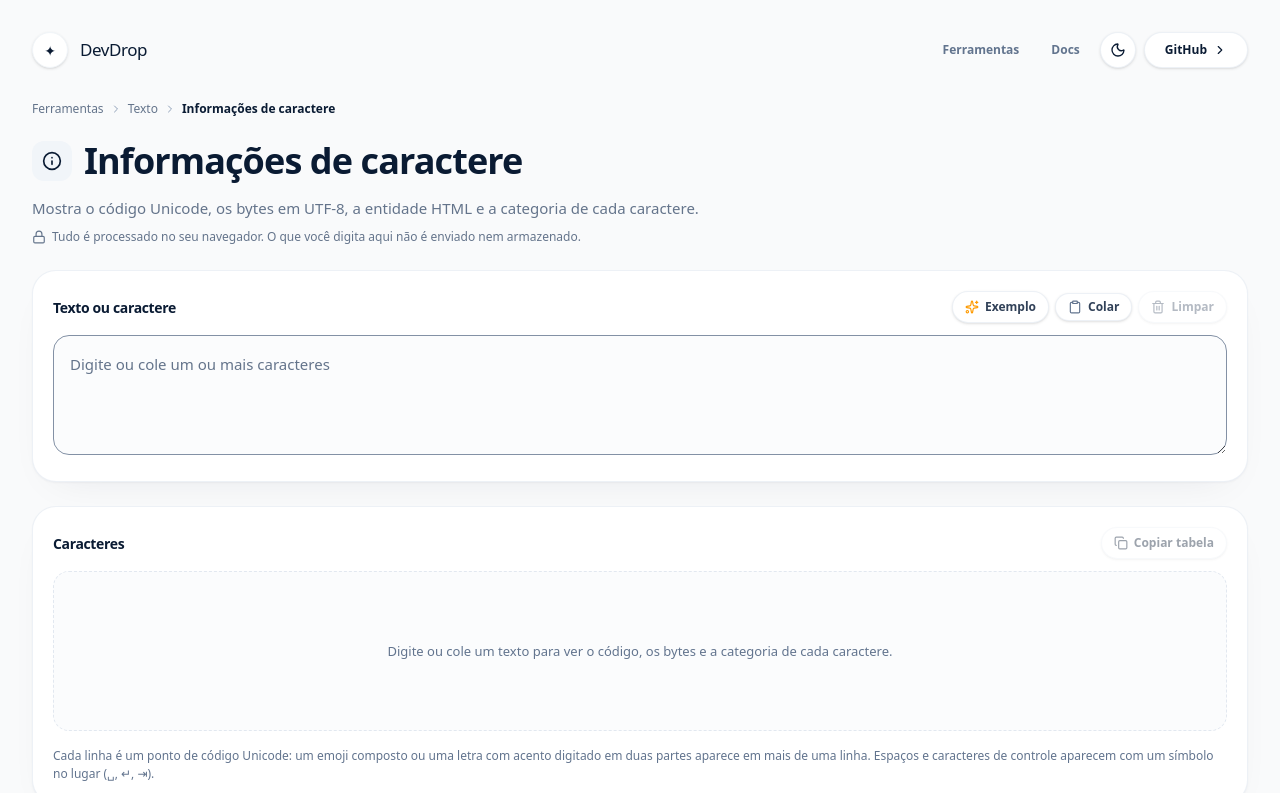
it: character info › describes each code point, stands in for invisible ones and caps the list
Click the text box with id "char-info-input" at [640, 395], box [53,335,1227,455]
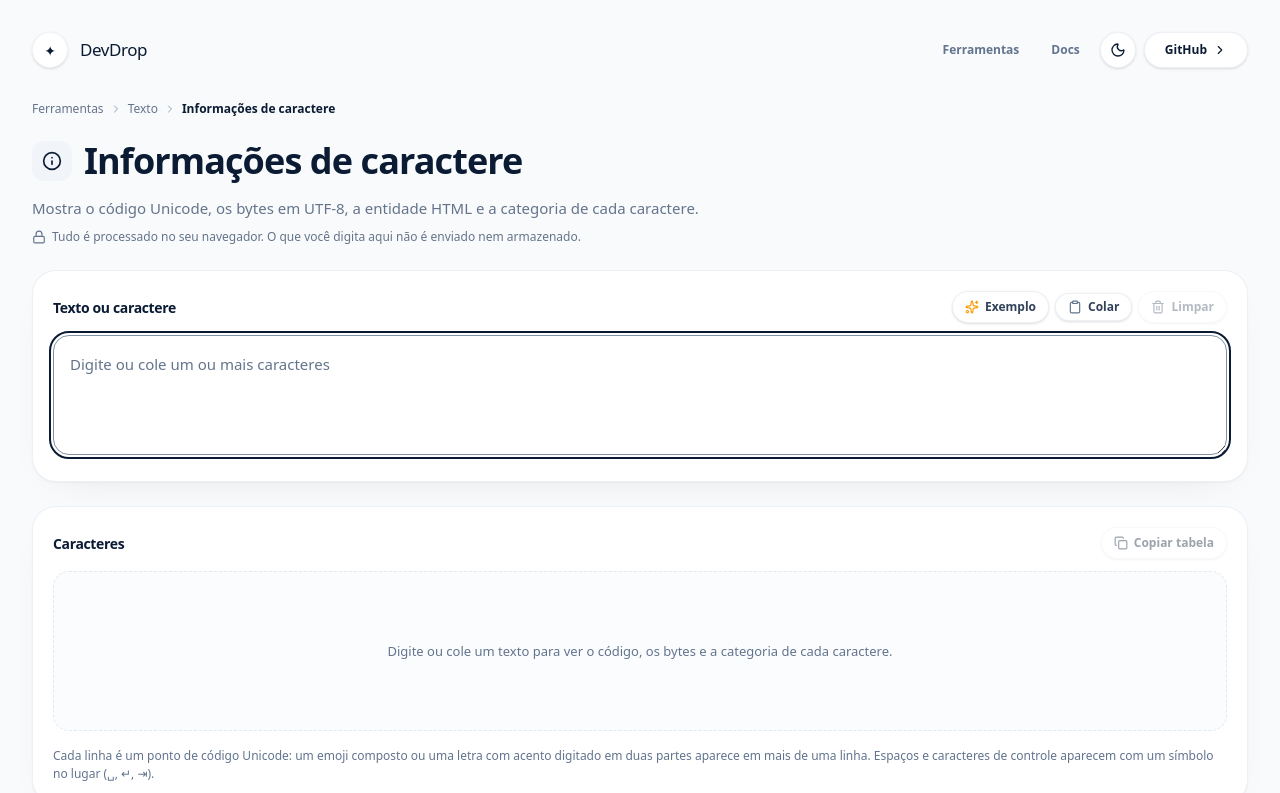
Type keys "ç🚀 "
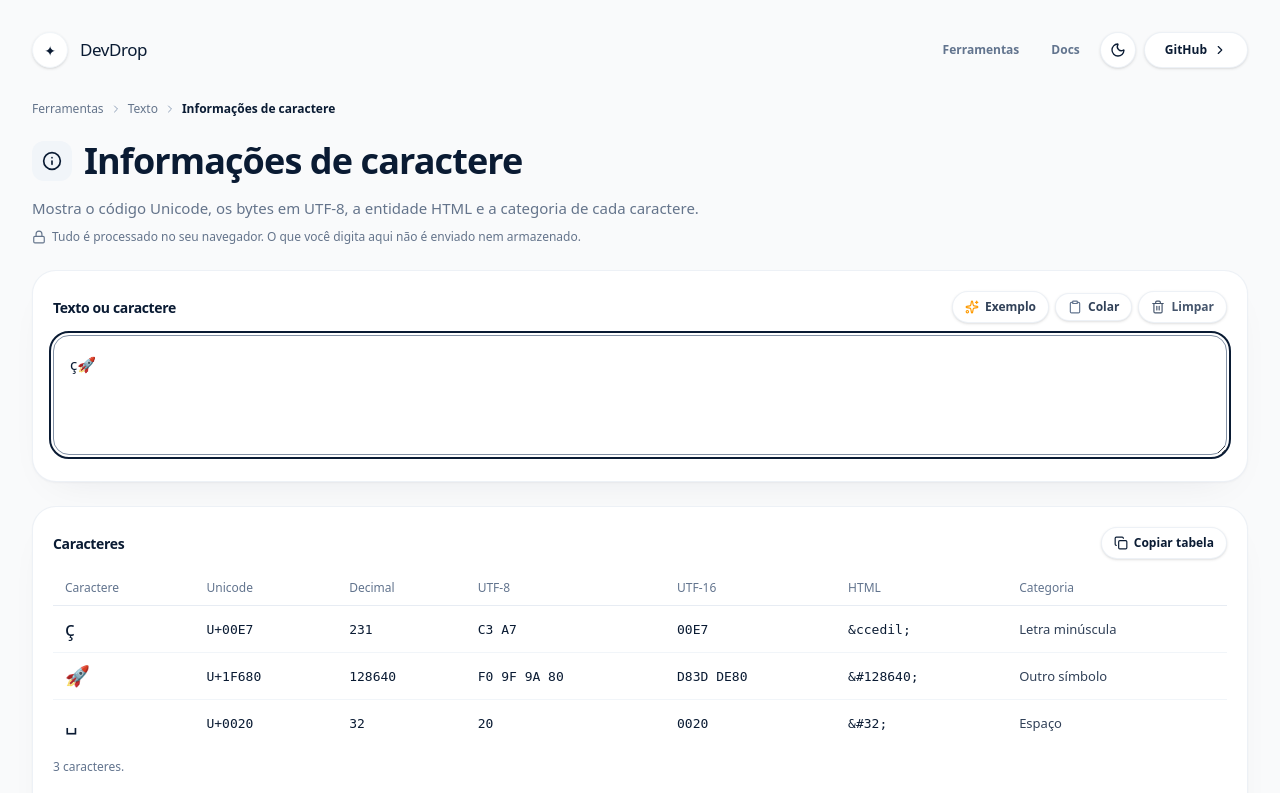
Check: the number of rows is 4, box [53,571,1227,606]; [53,606,1227,653]; [53,653,1227,700]; [53,700,1227,746]
Check: the cell "U+00E7" is shown, box [194,606,337,653]
Check: the cell "F0 9F 9A 80" is shown, box [466,653,665,700]
Click the button "Limpar" at [1183, 307], box [1138,291,1227,323]
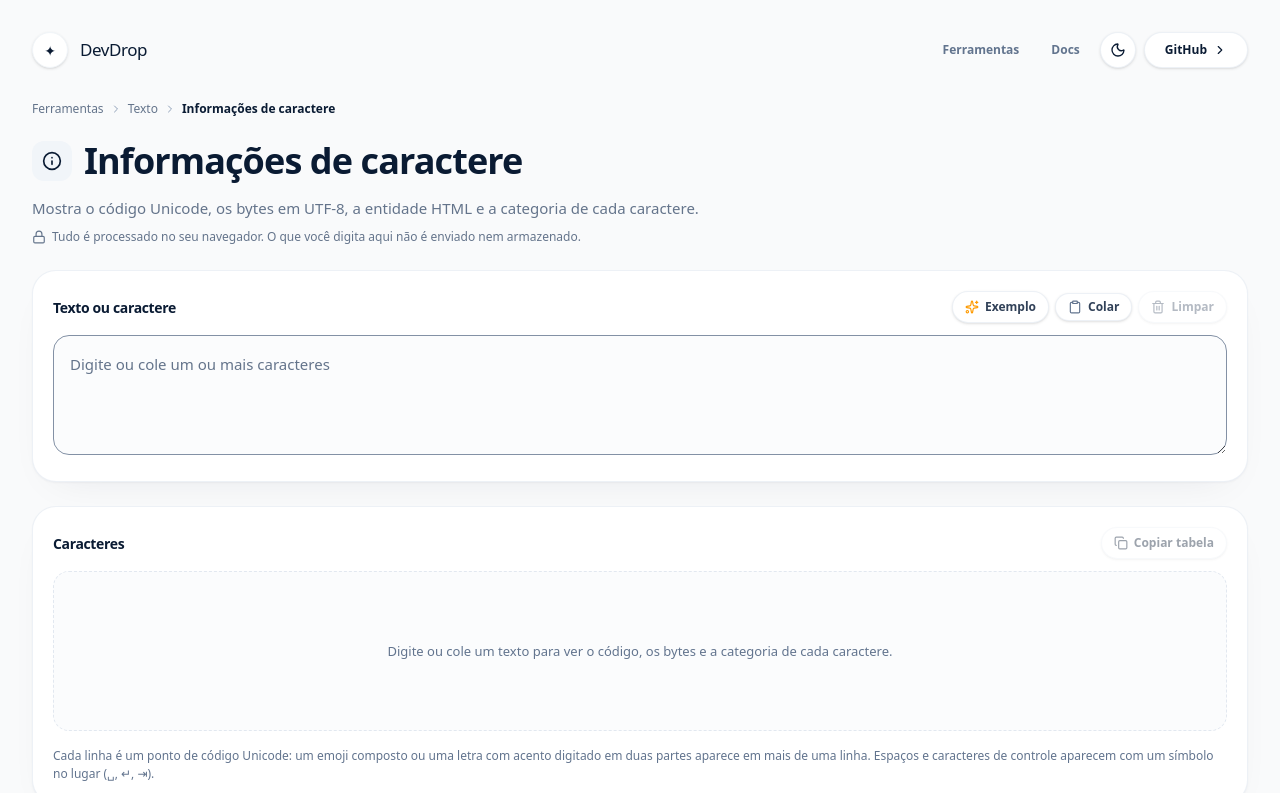
Check: no rows are shown
